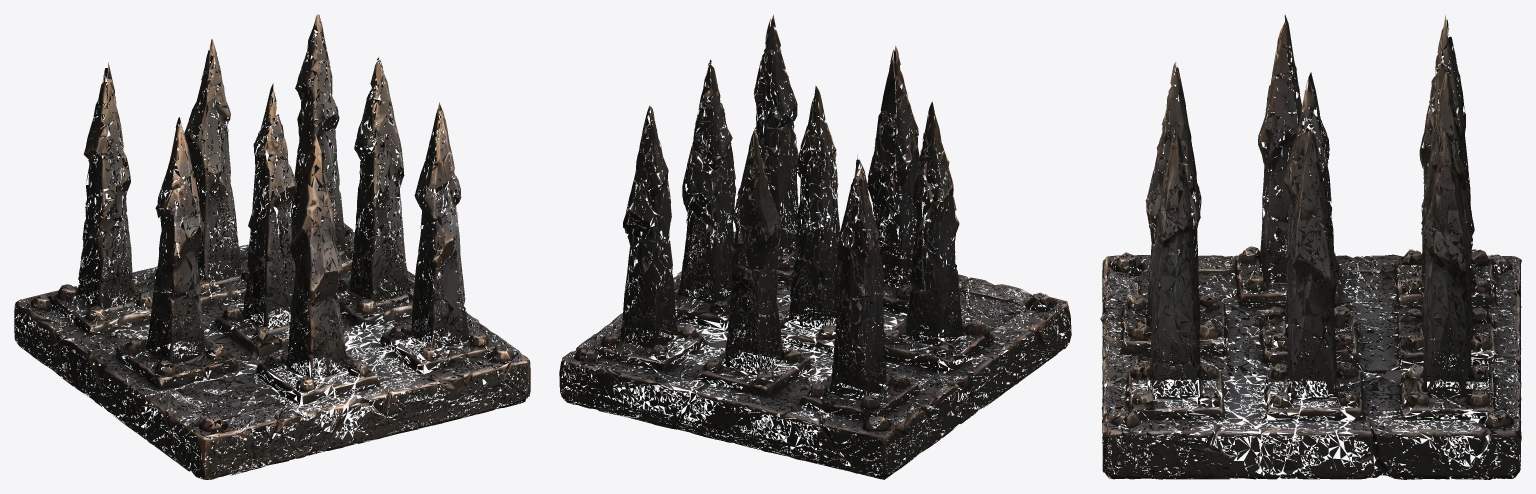
File: SpikeTrap_Spikes.fbx
The picture shows the model from 3 angles, left to right: view 1: azimuth 30°, elevation 25°; view 2: azimuth 150°, elevation 25°; view 3: azimuth 270°, elevation 25°; orthographic projection. The views are drawn at different scales.
Visible parts, largest first — view 1: SpikeTrap_Spikes; view 2: SpikeTrap_Spikes; view 3: SpikeTrap_Spikes.
Boxes of the visible parts, x1=… form: SpikeTrap_Spikes: x1=14, y1=14, x2=530, y2=479; SpikeTrap_Spikes: x1=559, y1=14, x2=1071, y2=479; SpikeTrap_Spikes: x1=1100, y1=14, x2=1521, y2=479.
Size of the model in its own units: 0.623 by 0.5262 by 0.622.
1 material, 1 textured.
